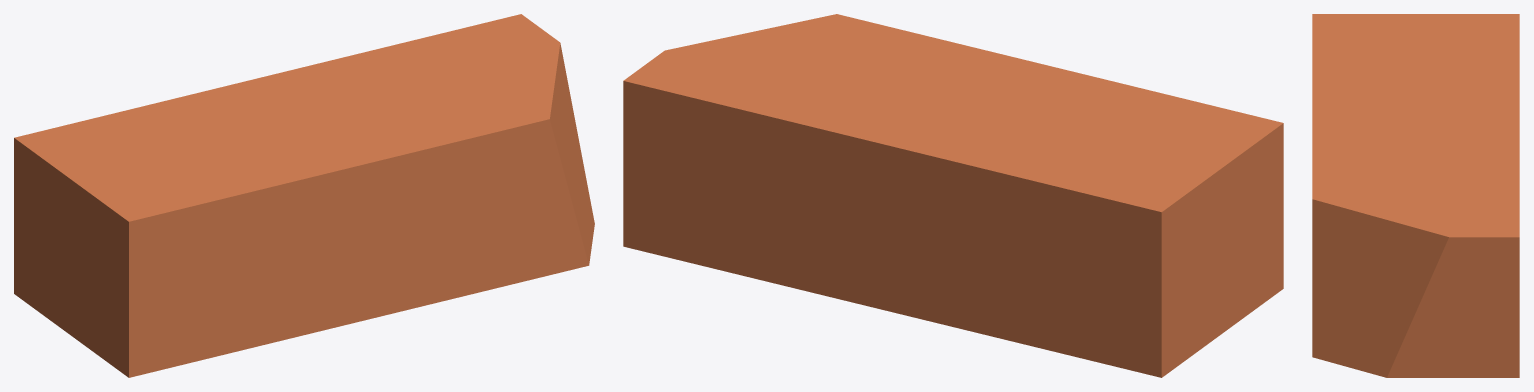
The model's file is Brick_03.fbx.
The picture shows the model from 3 angles, left to right: view 1: azimuth 30°, elevation 25°; view 2: azimuth 150°, elevation 25°; view 3: azimuth 270°, elevation 25°; orthographic projection. The views are drawn at different scales.
Visible parts, largest first — view 1: Brick_03; view 2: Brick_03; view 3: Brick_03.
Boxes of the visible parts, x1=… form: Brick_03: x1=14, y1=14, x2=594, y2=377; Brick_03: x1=623, y1=14, x2=1283, y2=377; Brick_03: x1=1312, y1=14, x2=1519, y2=377.
Bounding box in the file's own units: 25.5 × 7.5 × 10.
